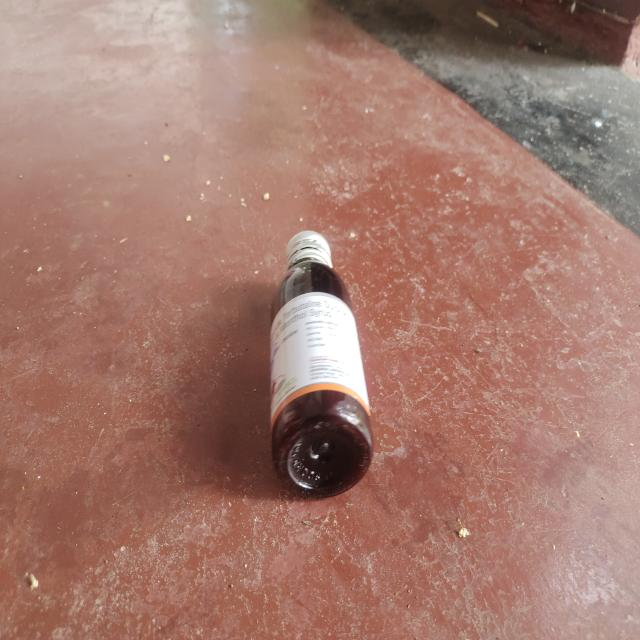plastic: (266, 227, 381, 500)
